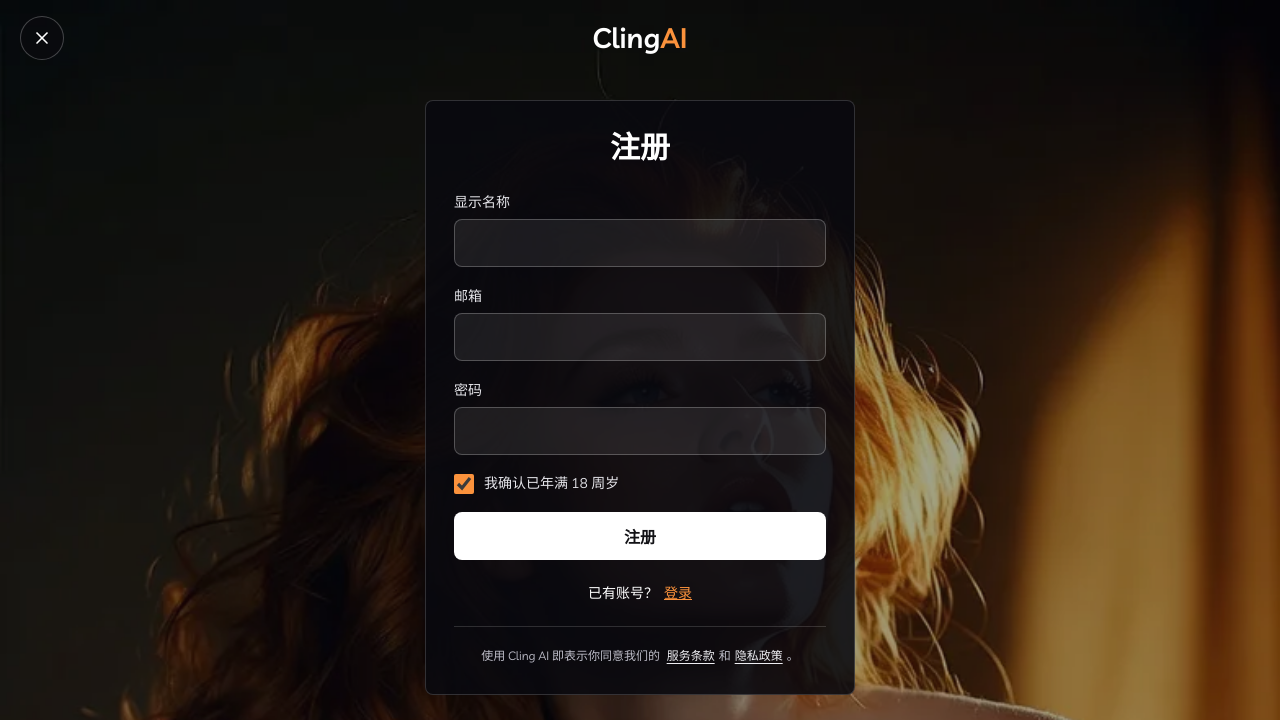
Test case: Go 自有账号入口 › 注册成功后的 /me 返回 401 时拒绝提交并显示错误
This screenshot has width=1280, height=720.
Type "test@example.com" into the field labelled "邮箱".
click(640, 336); type("test@example.com")  # box [454, 312, 826, 360]
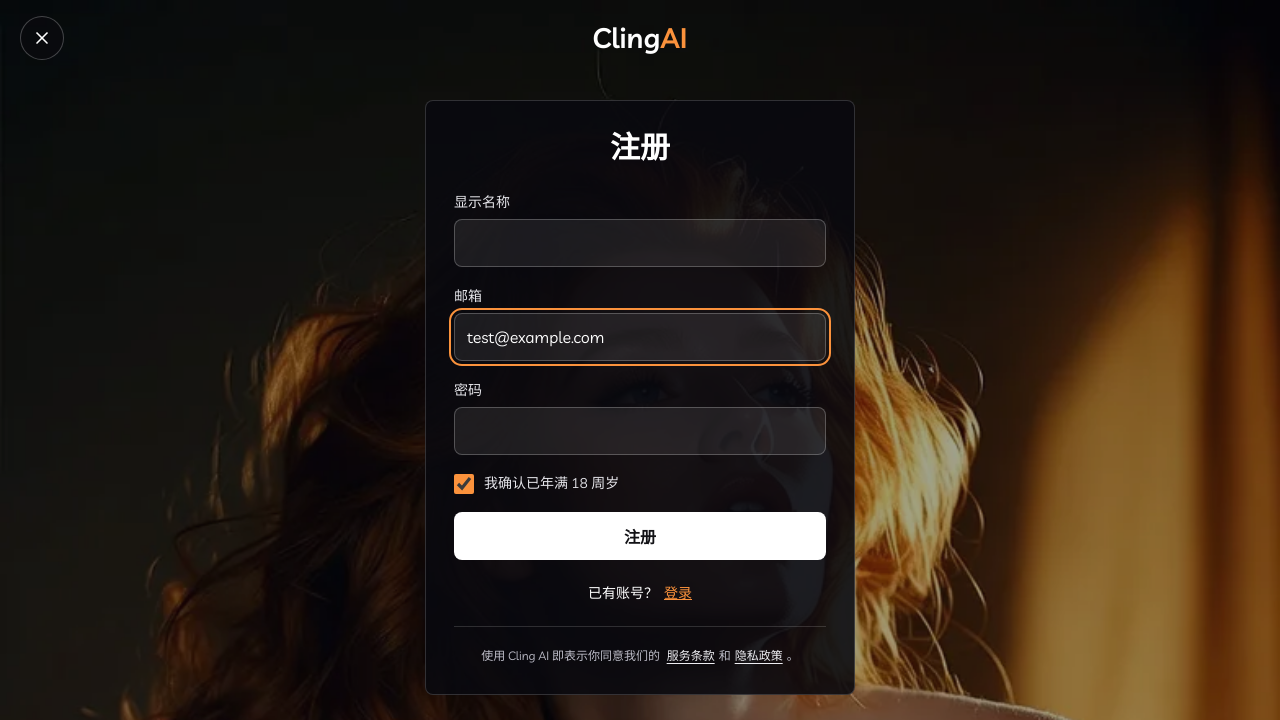
Type "password123" into the password field labelled "密码".
click(640, 430); type("password123")  # box [454, 406, 826, 454]
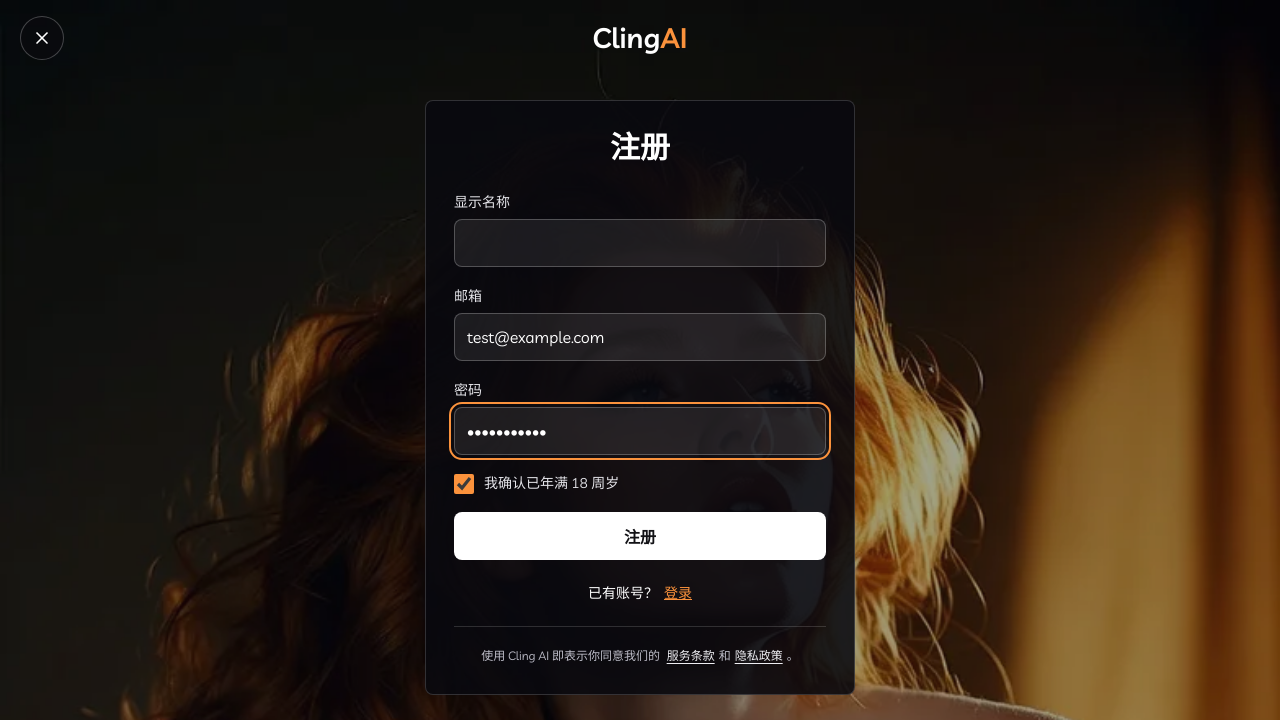
Click the button "注册".
click(640, 536)  # box [454, 512, 826, 560]
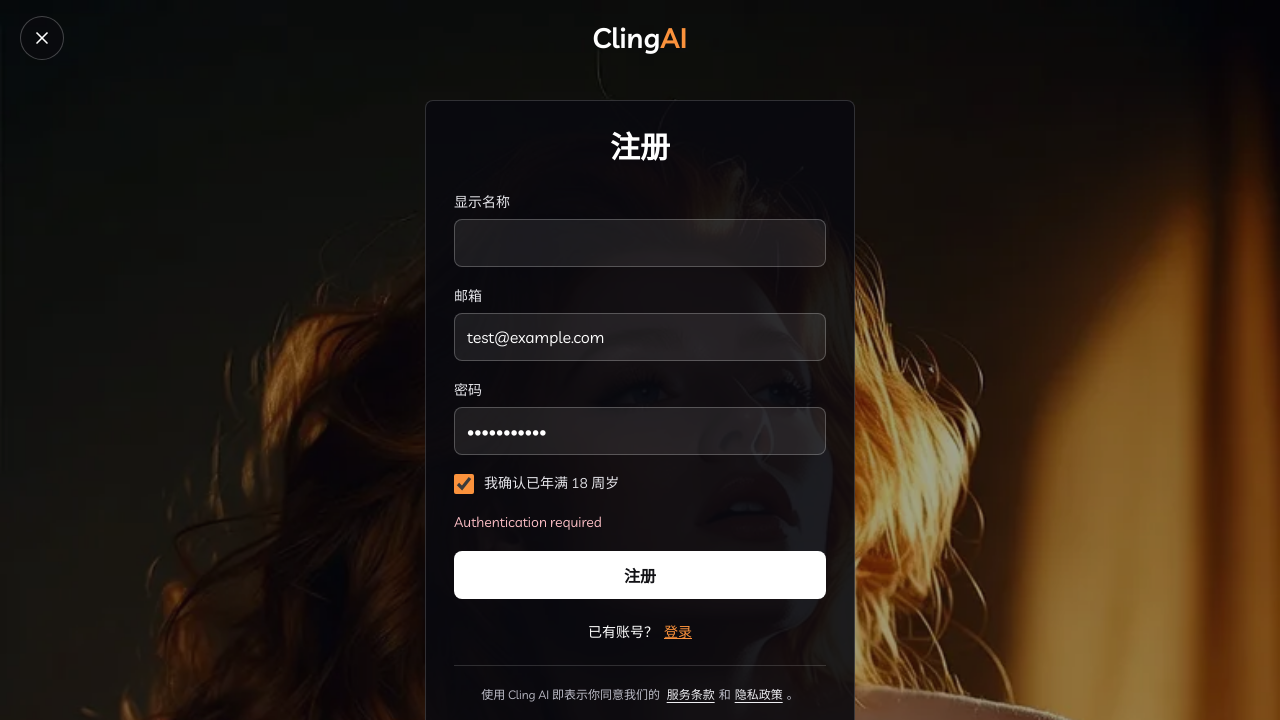
Expected: the message reads "Authentication required", [454, 512, 602, 530]
